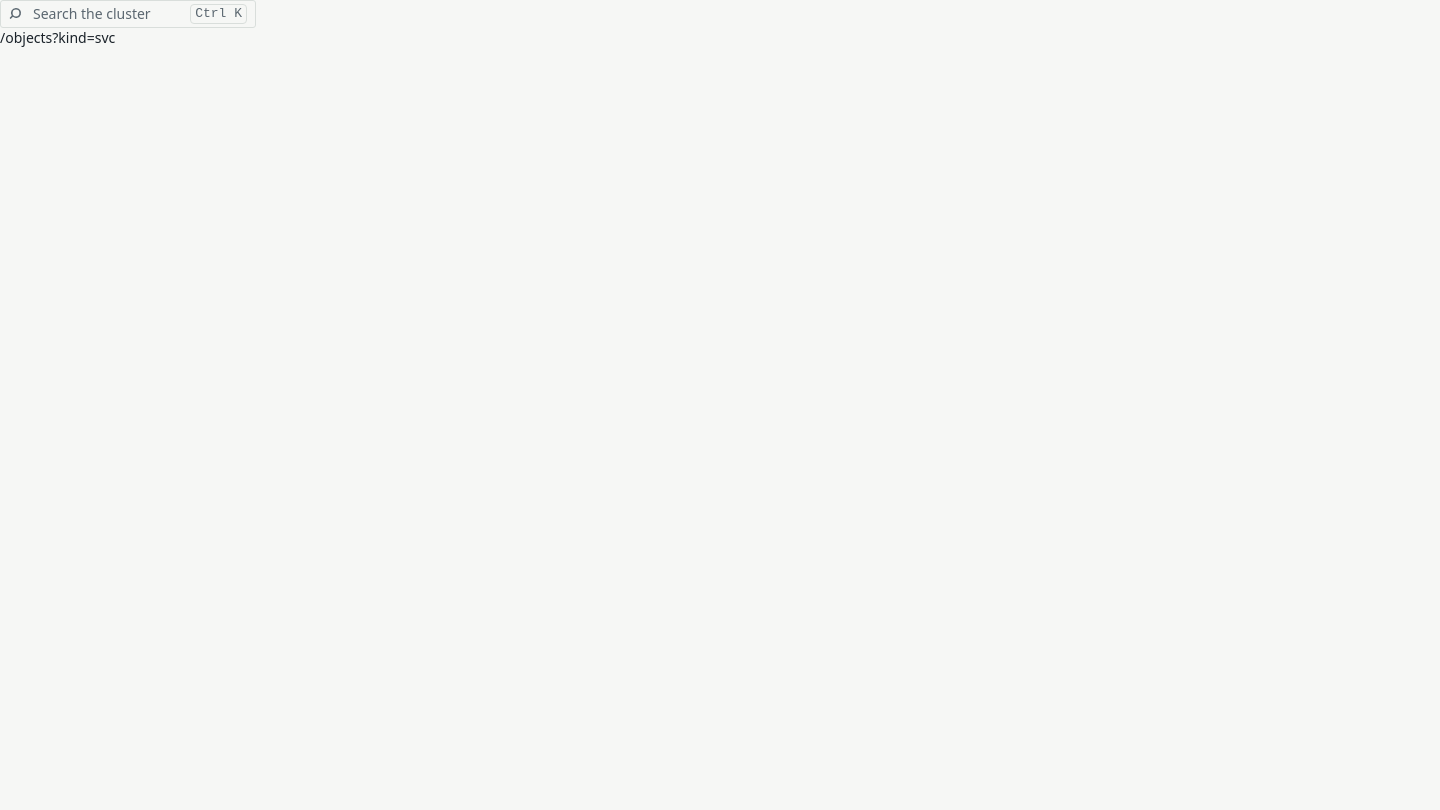
GlobalSearch › a node opens its panel, as the other records; n/a is written /
Press /
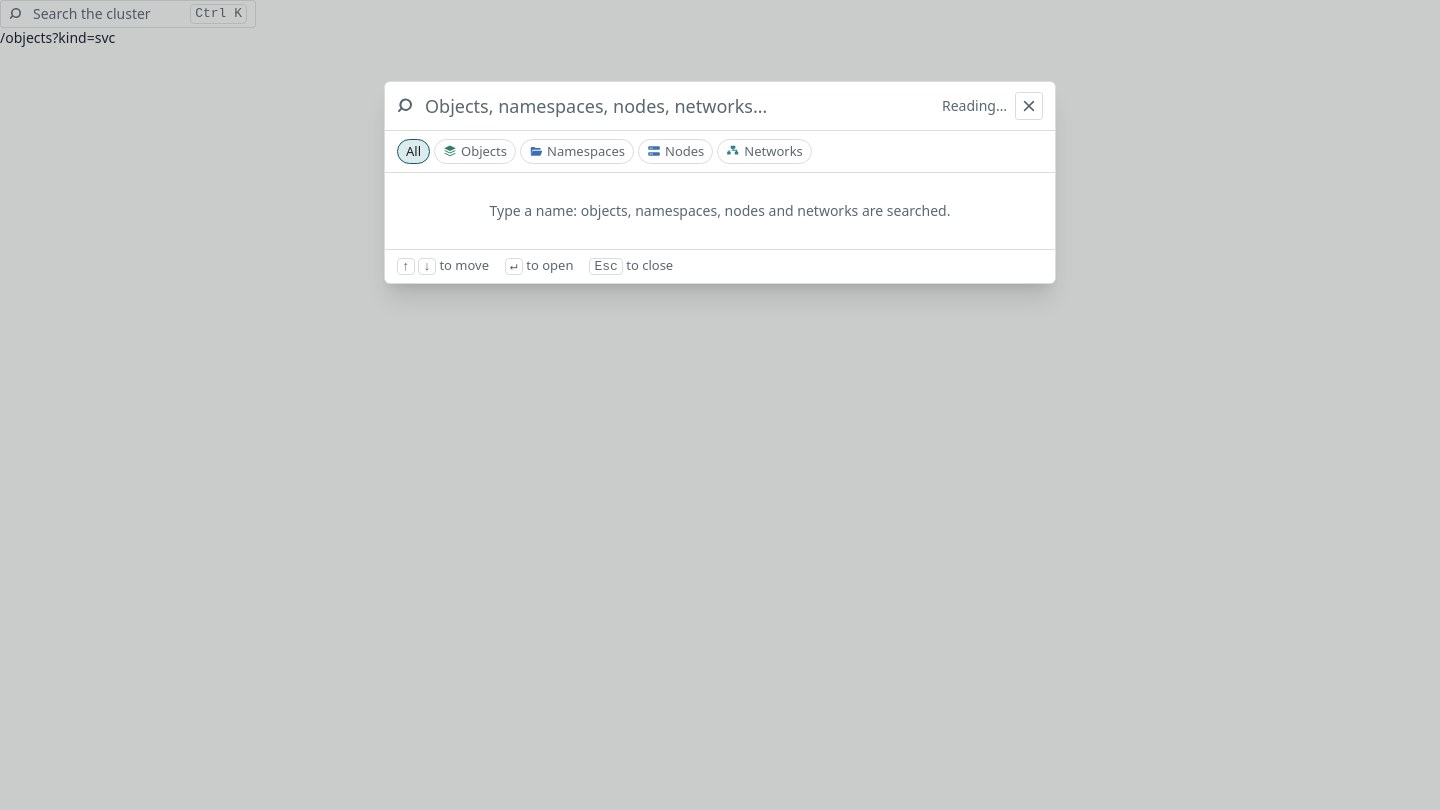
In the dropdown: (680, 106) [425,82,934,130], type "foo"
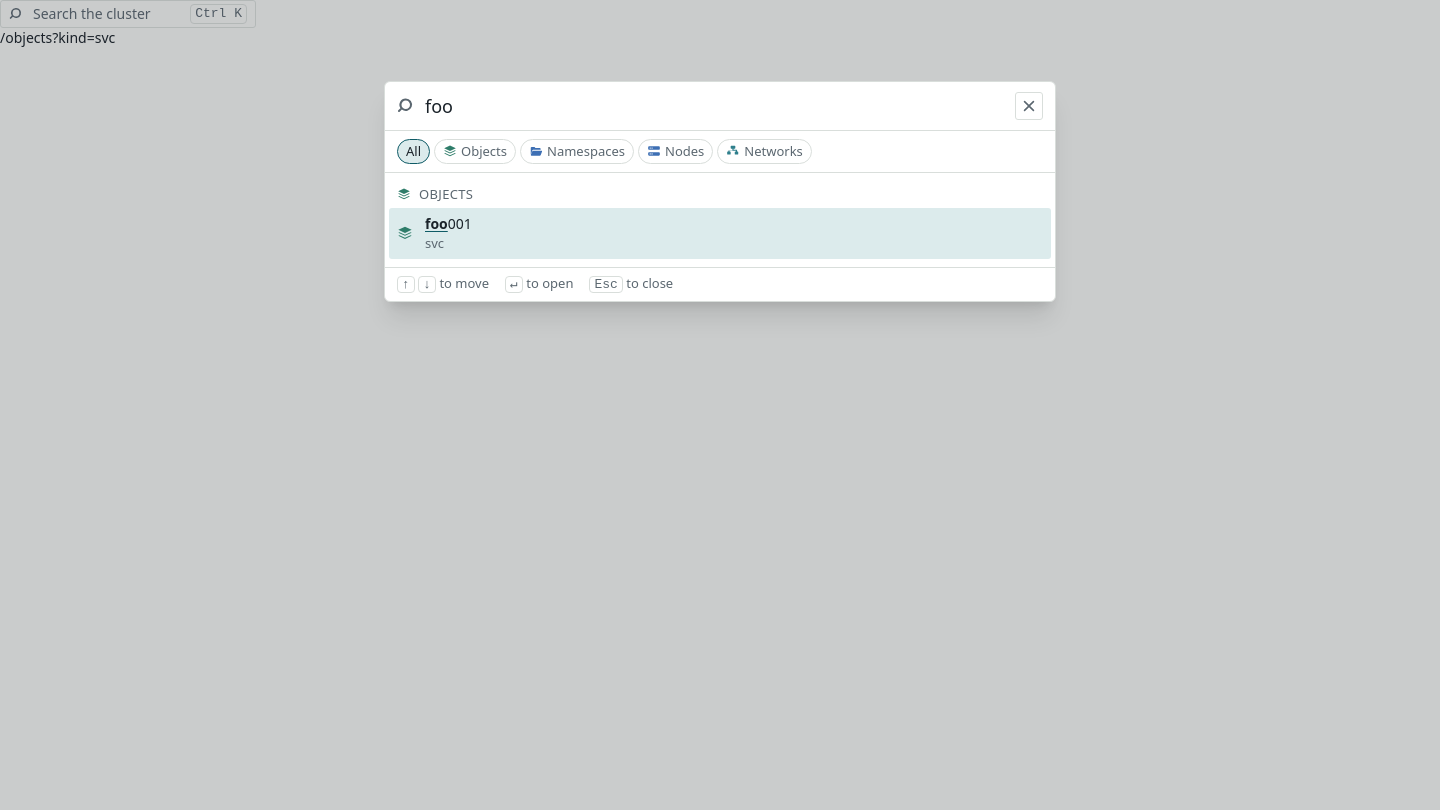
Replace the text in the dropdown with "dev3": (716, 106) [425,82,1007,130]
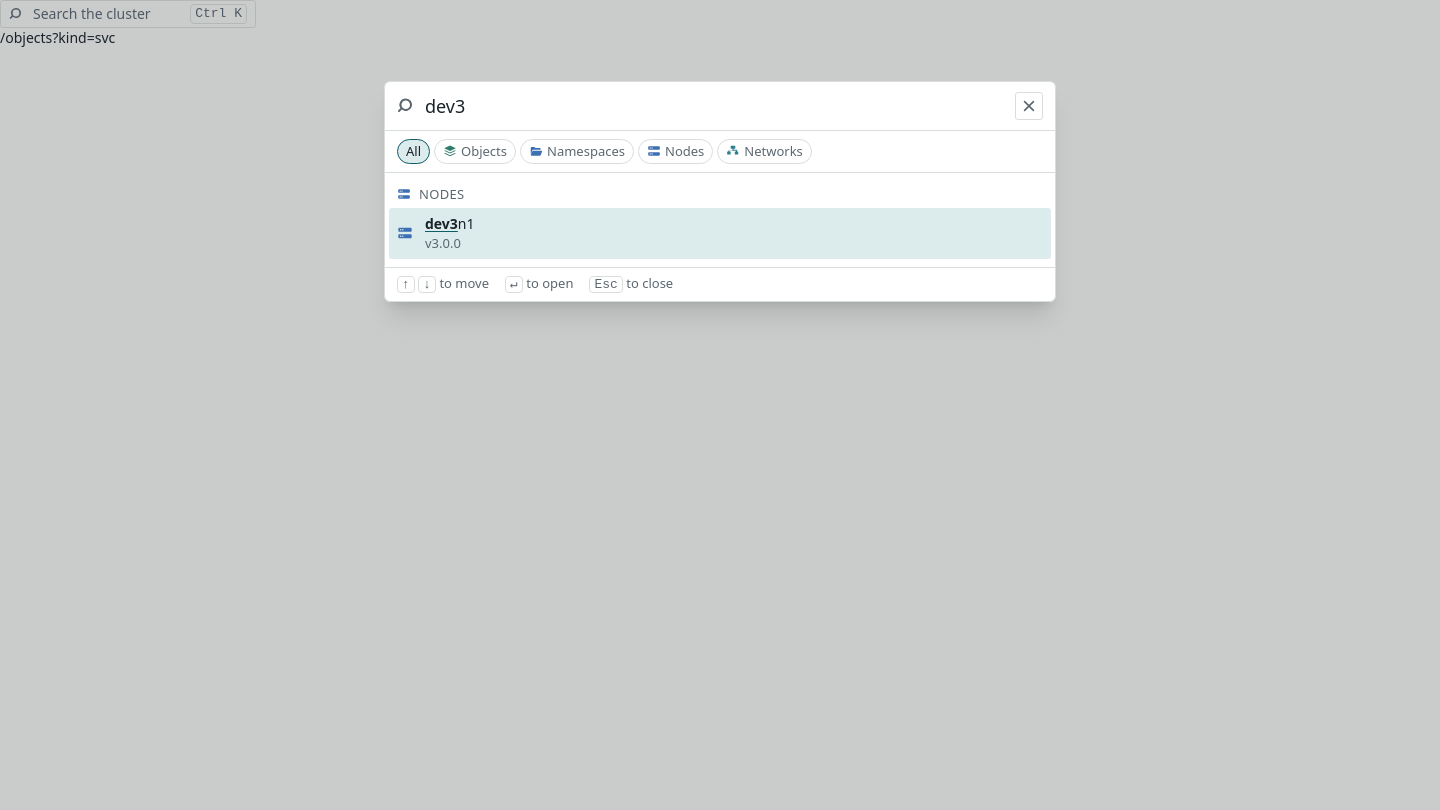
Now the option shows "dev3n1"
Click the option "dev3n1 v3.0.0": click(441, 223) [389,208,1051,259]
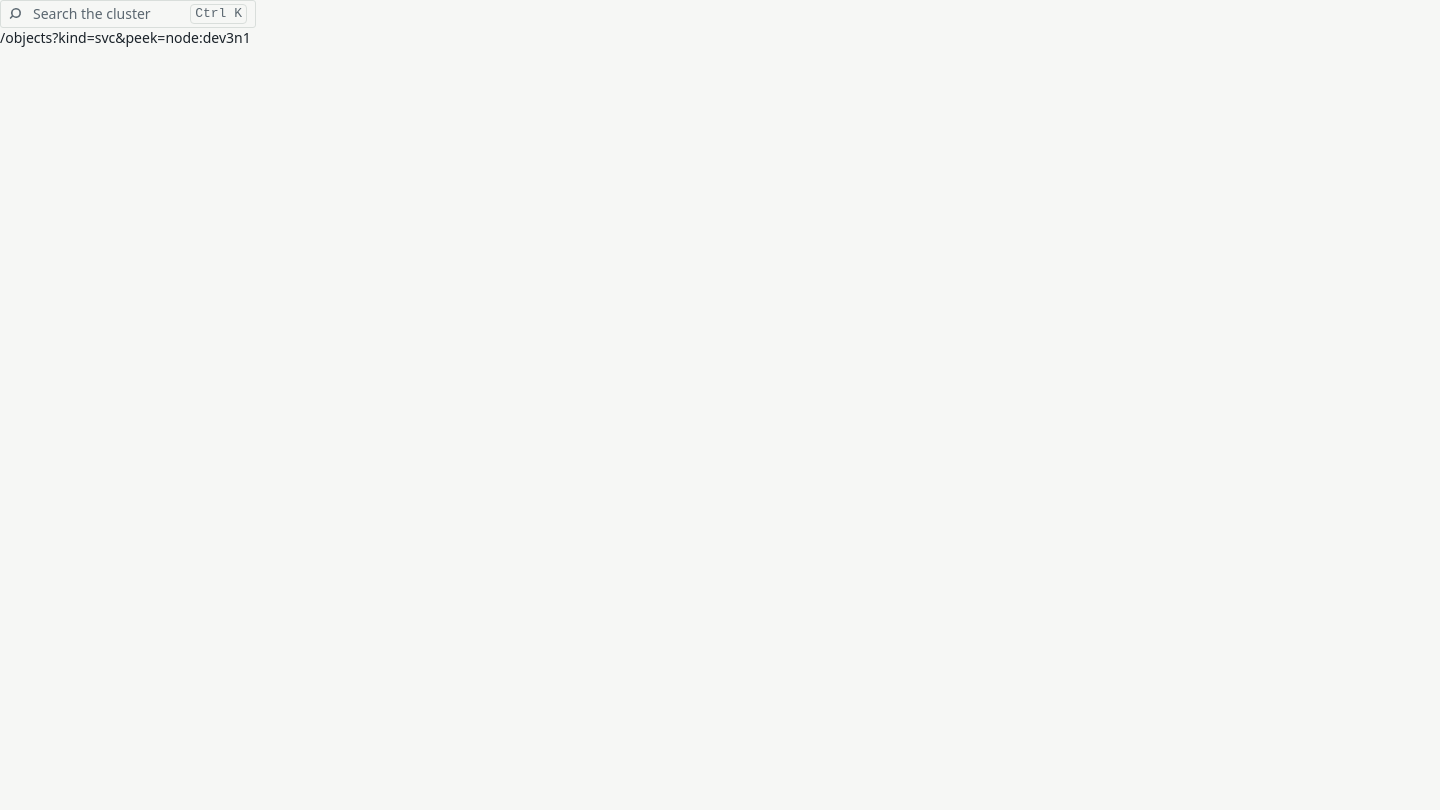
Now the text with test id "location" shows "peek=node:dev3n1", box [0,28,251,47]
